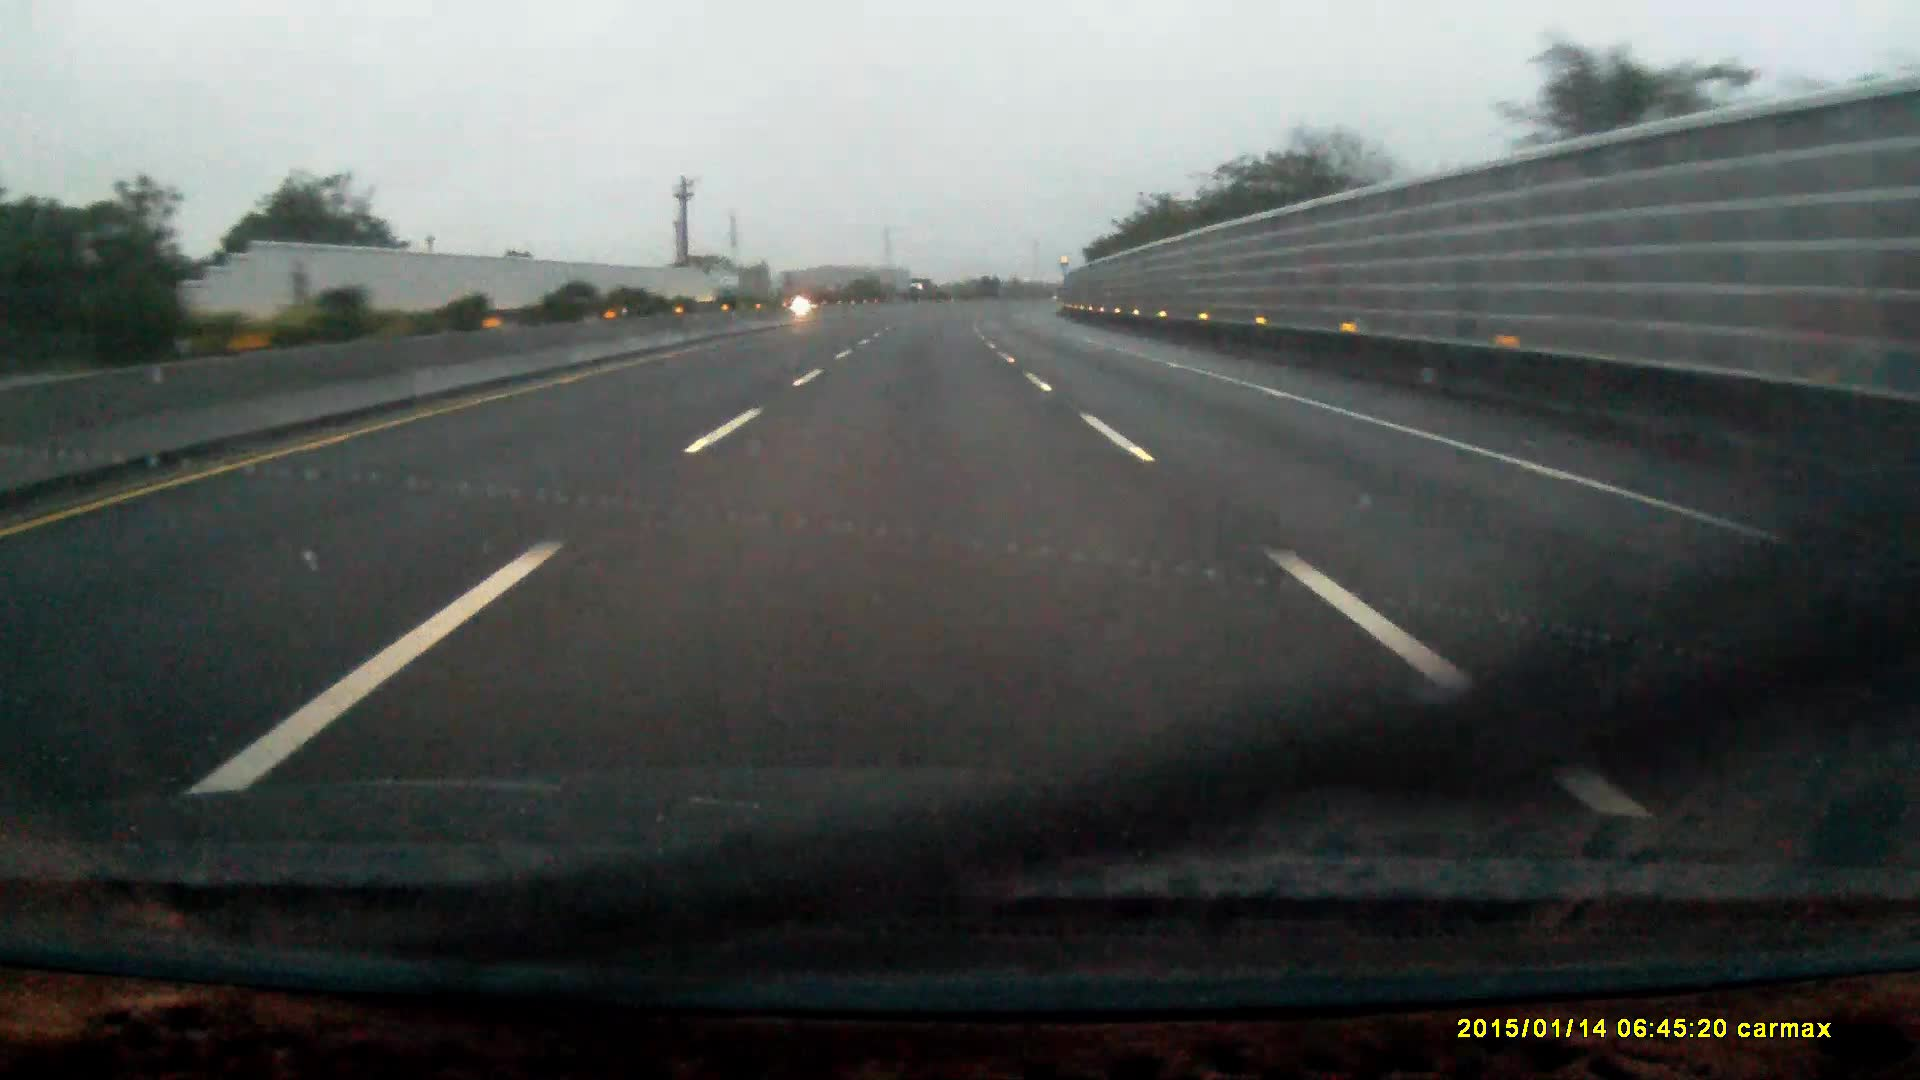vehicle: (906, 280, 931, 303)
